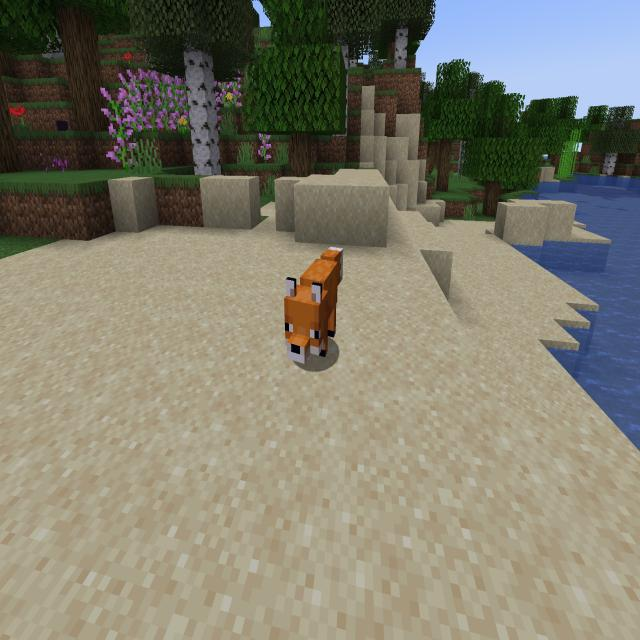Fox: (276, 228, 346, 367)
